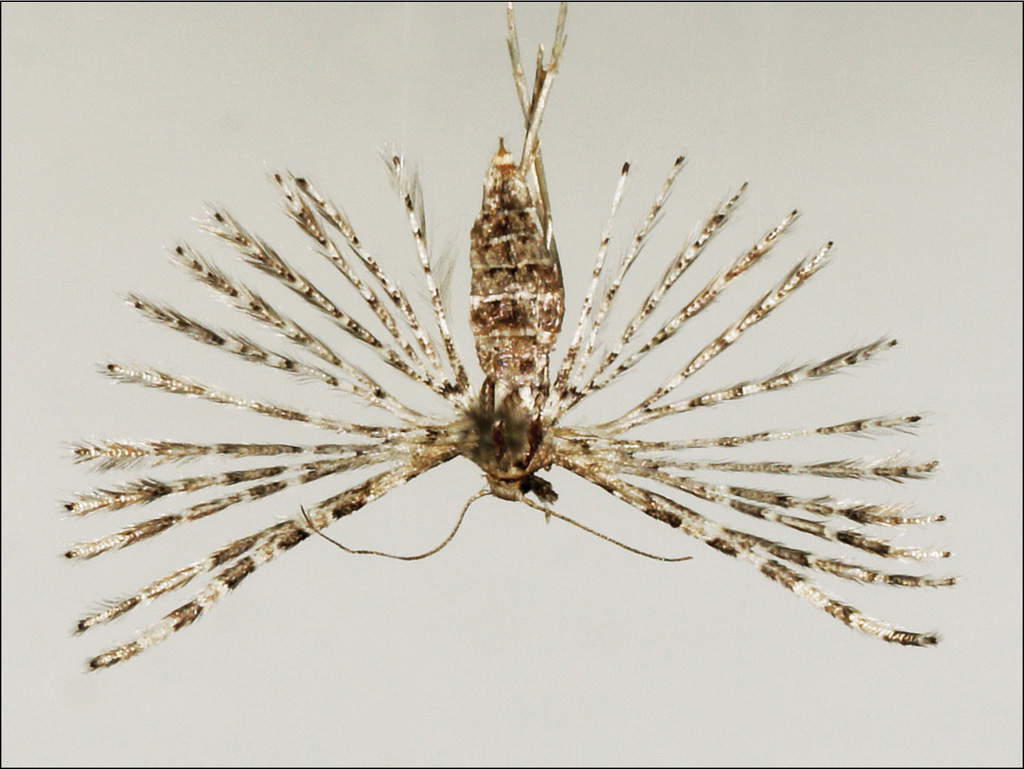Alucitidae: (67, 3, 967, 686)
moth: (65, 1, 965, 684)
